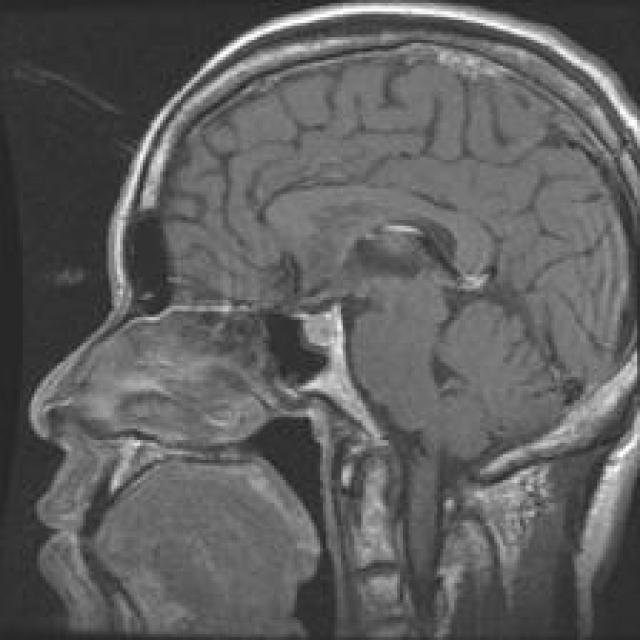pituitary_tumor: (284, 293, 372, 368)
